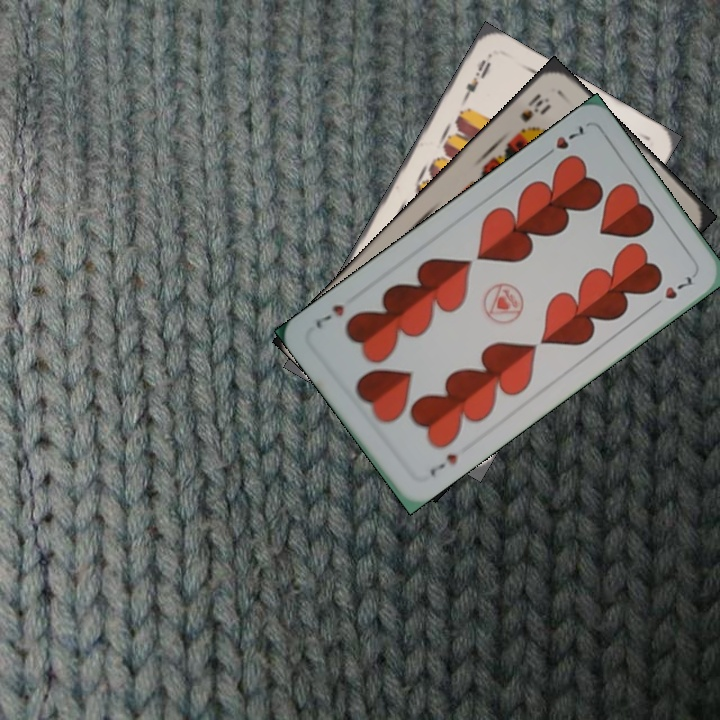E9: (457, 55, 494, 107)
H7: (538, 121, 589, 161), (425, 449, 460, 479)
S10: (516, 89, 553, 125)
